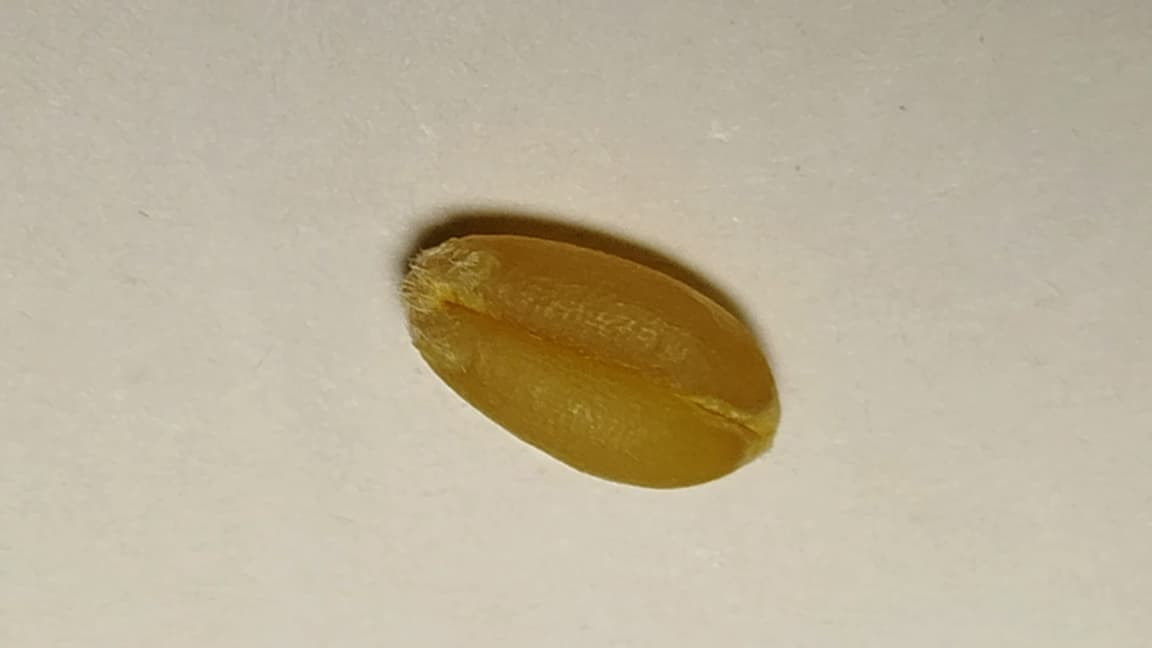healthy: (402, 235, 778, 486)
